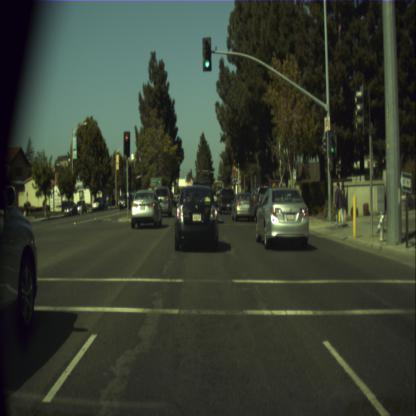Green: (202, 37, 210, 70), (330, 134, 336, 152)
RedLeft: (124, 131, 129, 156)
